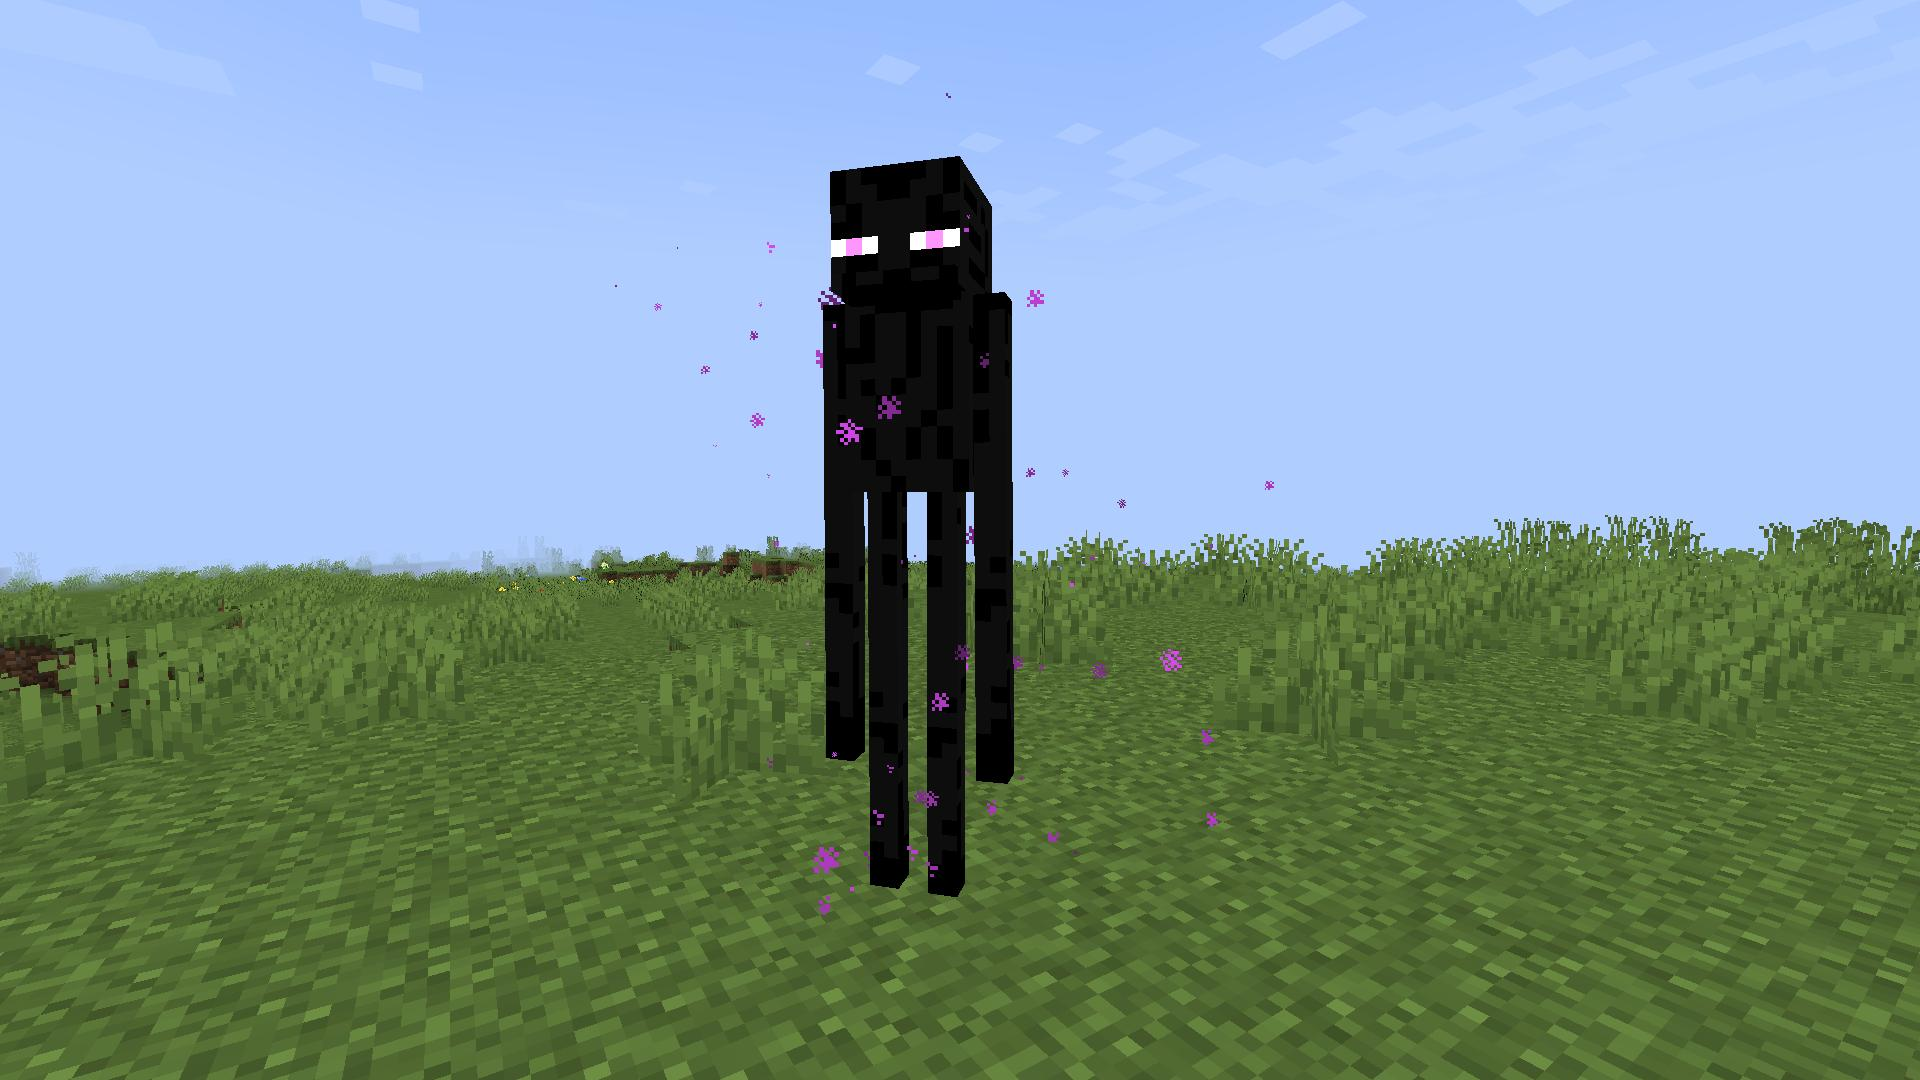enderman: (816, 153, 1026, 907)
